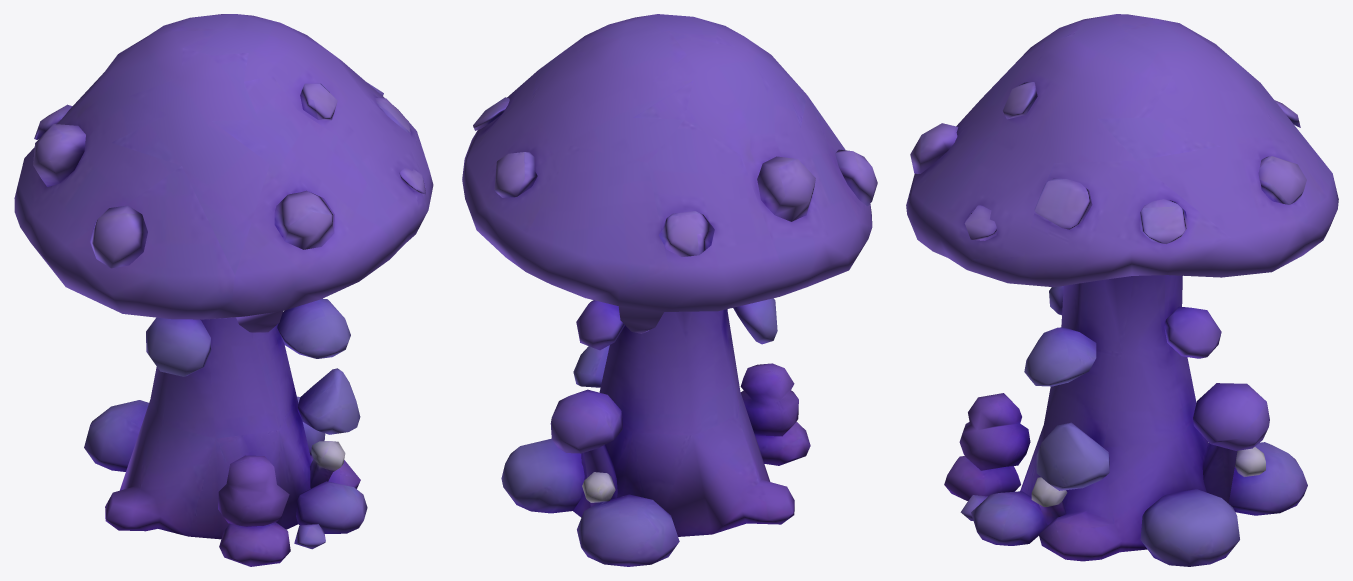
Rendered from tree.glb.
The picture shows the model from 3 angles, left to right: view 1: azimuth 30°, elevation 25°; view 2: azimuth 150°, elevation 25°; view 3: azimuth 270°, elevation 25°; orthographic projection. The views are drawn at different scales.
Visible parts, largest first — view 1: tripo_node_1cf9a8fa-c9f1-420f-b356-8abcb4de0f80; view 2: tripo_node_1cf9a8fa-c9f1-420f-b356-8abcb4de0f80; view 3: tripo_node_1cf9a8fa-c9f1-420f-b356-8abcb4de0f80.
Boxes of the visible parts, x1,y1,x2,y2 form: tripo_node_1cf9a8fa-c9f1-420f-b356-8abcb4de0f80: (14, 14, 433, 566); tripo_node_1cf9a8fa-c9f1-420f-b356-8abcb4de0f80: (462, 14, 877, 566); tripo_node_1cf9a8fa-c9f1-420f-b356-8abcb4de0f80: (906, 14, 1338, 566).
Size of the model in its own units: 0.8027 by 0.998 by 0.8223.
1 material, 1 textured.
